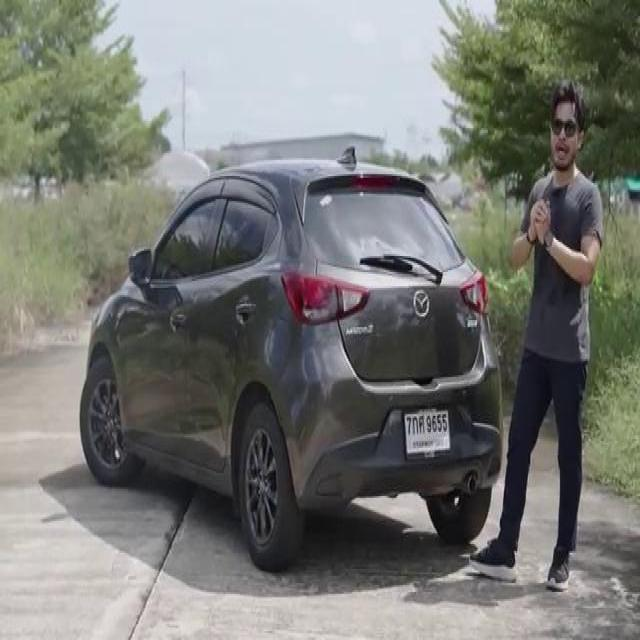Hatchback: (80, 148, 502, 571)
